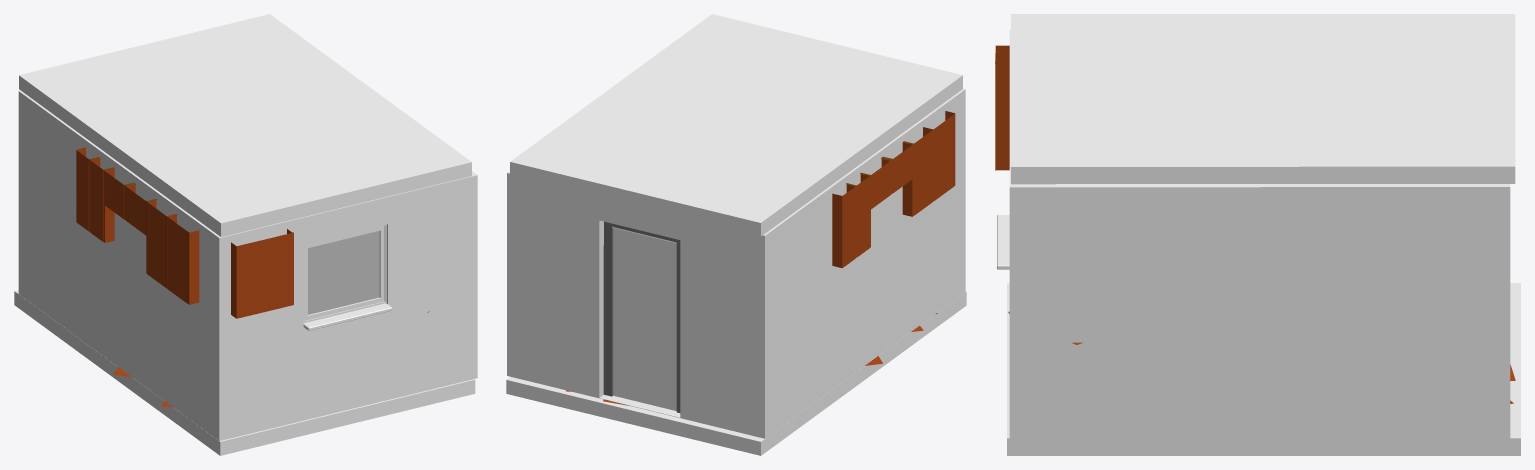
Rendered from FloorPlan27_physics.fbx.
The picture shows the model from 3 angles, left to right: view 1: azimuth 30°, elevation 25°; view 2: azimuth 150°, elevation 25°; view 3: azimuth 270°, elevation 25°; orthographic projection. The views are drawn at different scales.
Parts seen in each view (by area): view 1: Room.026, Ceiling.002, Cube.155, Floor.002, Window, WindowFrame; view 2: Room.026, Ceiling.002, Door, Cube.155, Floor.002, DoorFrame; view 3: Room.026, Ceiling.002, Floor.002, Cube.155, WindowFrame.
Part boxes in pixels (bbox=[...]): Room.026: bbox=[18, 90, 477, 440]; Ceiling.002: bbox=[19, 14, 471, 236]; Cube.155: bbox=[76, 147, 293, 318]; Floor.002: bbox=[14, 290, 475, 455]; Window: bbox=[308, 231, 379, 314]; WindowFrame: bbox=[303, 224, 392, 330]; Room.026: bbox=[507, 88, 965, 438]; Ceiling.002: bbox=[510, 14, 962, 236]; Door: bbox=[613, 228, 676, 410]; Cube.155: bbox=[832, 111, 955, 267]; Floor.002: bbox=[506, 291, 966, 455]; DoorFrame: bbox=[603, 221, 680, 412]; Room.026: bbox=[1009, 30, 1510, 440]; Ceiling.002: bbox=[1011, 14, 1515, 184]; Floor.002: bbox=[1007, 283, 1520, 455]; Cube.155: bbox=[995, 45, 1009, 170]; WindowFrame: bbox=[997, 215, 1009, 269].
Bounding box in the file's own units: 339 × 273 × 452.
